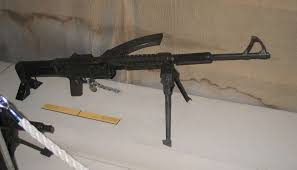gun: (14, 32, 272, 103)
